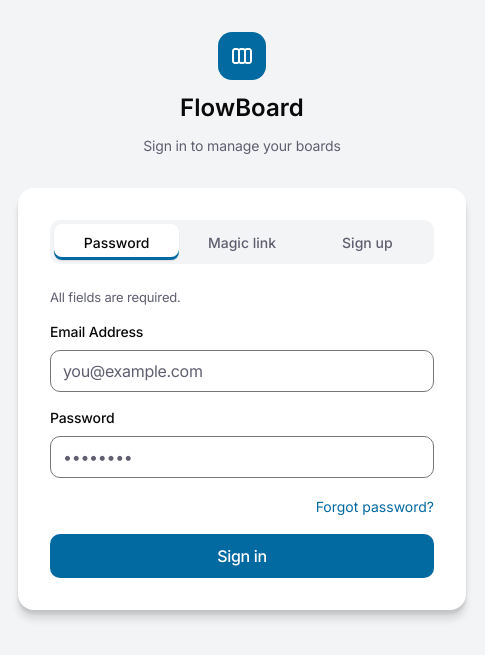
Test: LoginForm accessibility › ties a sign-in error to the fields
Type "nobody@example.com" into the field labelled "Email Address".
click(242, 371); type("nobody@example.com")  # box x1=50 y1=350 x2=434 y2=392
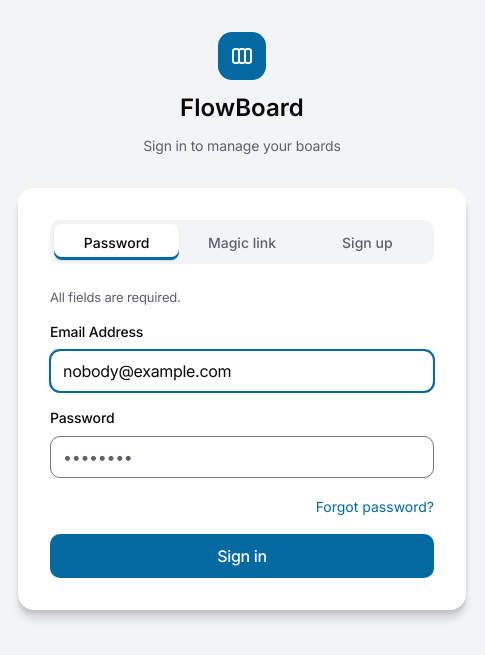
Type "wrong-password" into the password field labelled "Password".
click(242, 457); type("wrong-password")  # box x1=50 y1=436 x2=434 y2=478
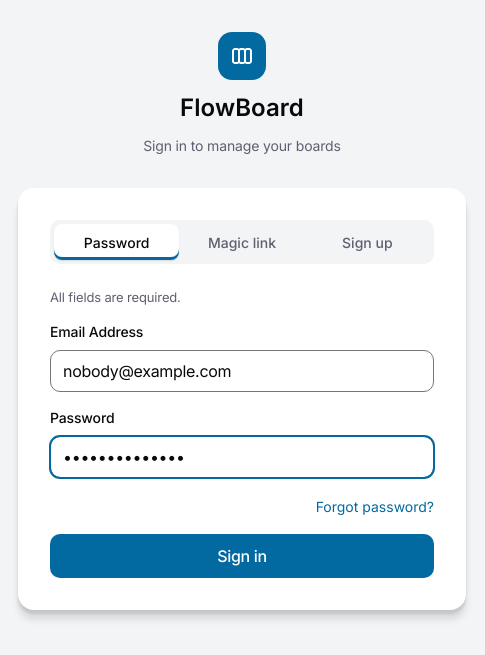
Click the button "Sign in".
click(242, 556)  # box x1=50 y1=534 x2=434 y2=578
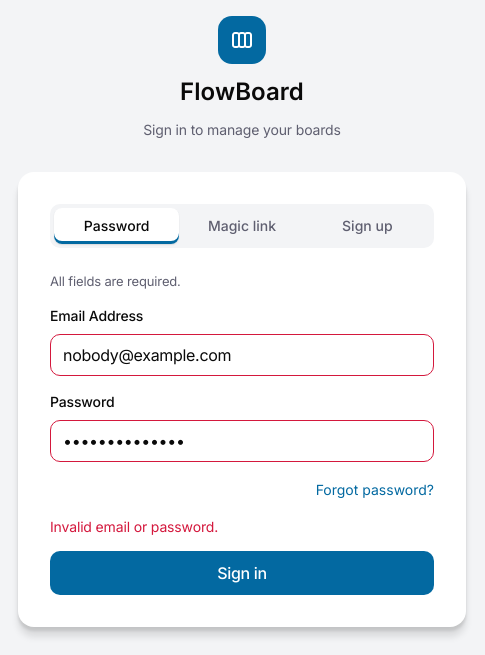
Now the message reads "Invalid email or password.", box x1=50 y1=518 x2=218 y2=534
